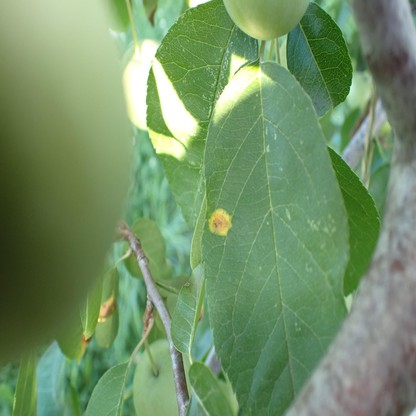rust: (209, 208, 233, 234), (99, 293, 115, 318)
